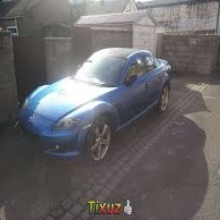no damage: (18, 47, 173, 163)
